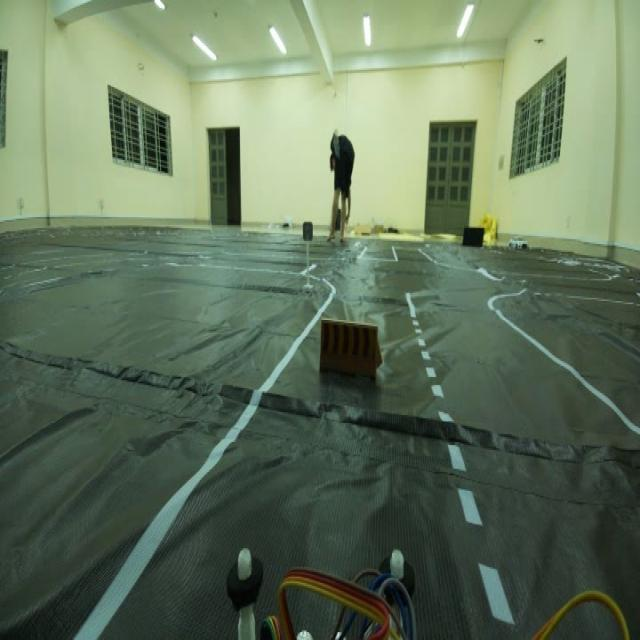roadblock: (315, 307, 383, 401)
